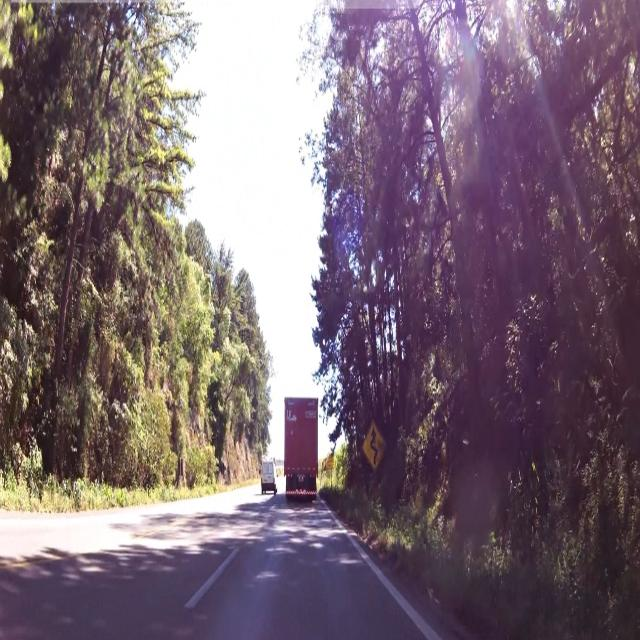A-3b: (363, 424, 385, 473)
